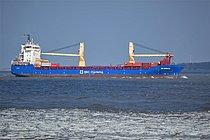Ship: (8, 31, 191, 83)
